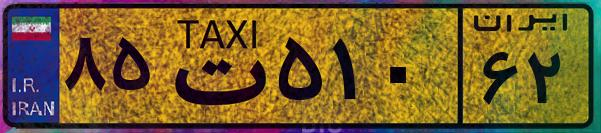0: (385, 28, 445, 110)
1: (330, 28, 385, 110)
2: (525, 38, 570, 115)
5: (270, 28, 330, 110), (110, 28, 158, 98)
6: (475, 38, 525, 113)
8: (57, 26, 110, 100)
ت: (158, 12, 270, 120)
